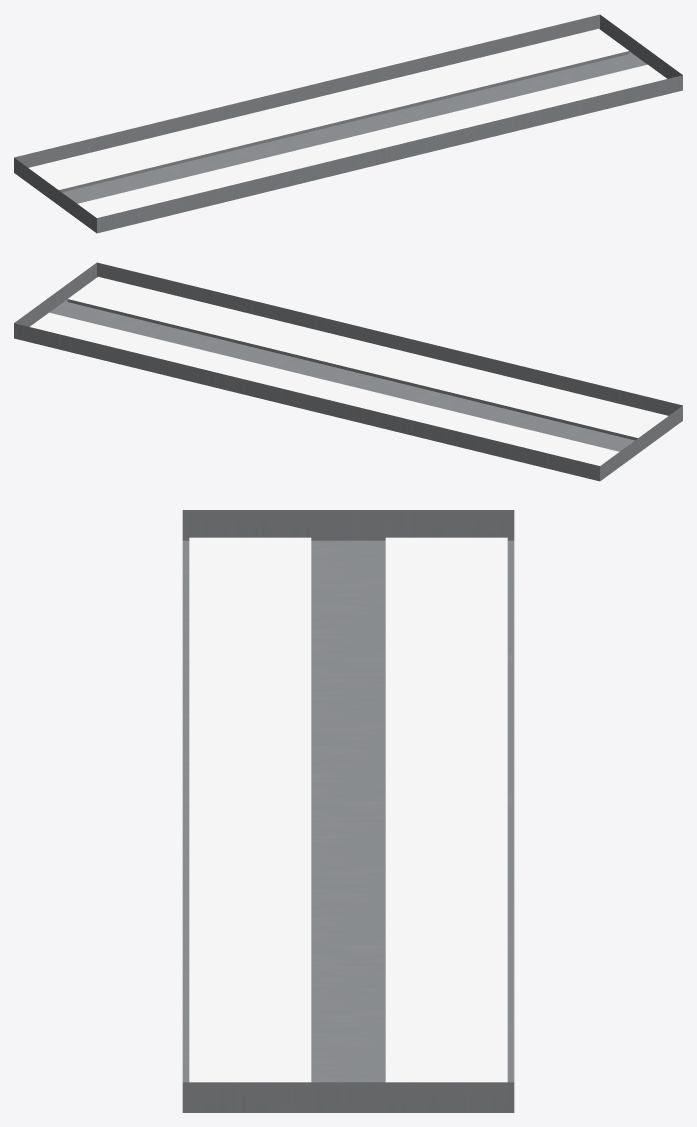
The model's file is light_fixture_roof.gltf.
3 renders of one model, top to bottom at view 1: azimuth 30°, elevation 25°; view 2: azimuth 150°, elevation 25°; view 3: azimuth 270°, elevation 25°, orthographic. The views are drawn at different scales.
Visible parts, largest first — view 1: Cube; view 2: Cube; view 3: Cube.
Boxes of the visible parts, x1,y1,x2,y2 form: Cube: (14, 14, 682, 233); Cube: (14, 262, 682, 481); Cube: (182, 510, 514, 1112).
Bounding box in the file's own units: 2 × 0.05 × 0.49.
Materials: 2 (1 with a texture image).
